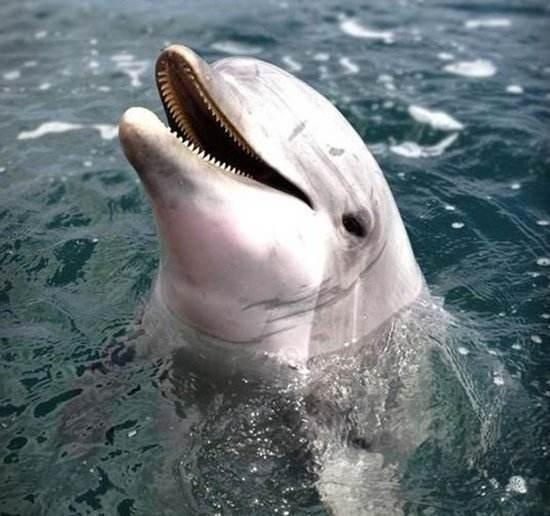fish: (119, 43, 432, 516)
